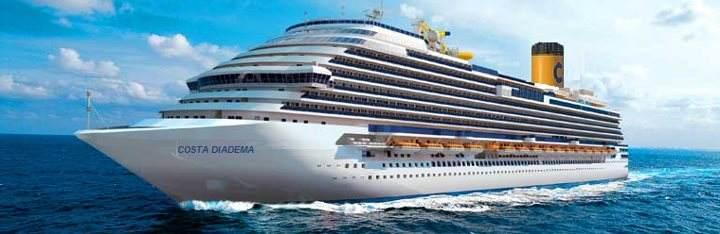youlun: (56, 1, 630, 209)
